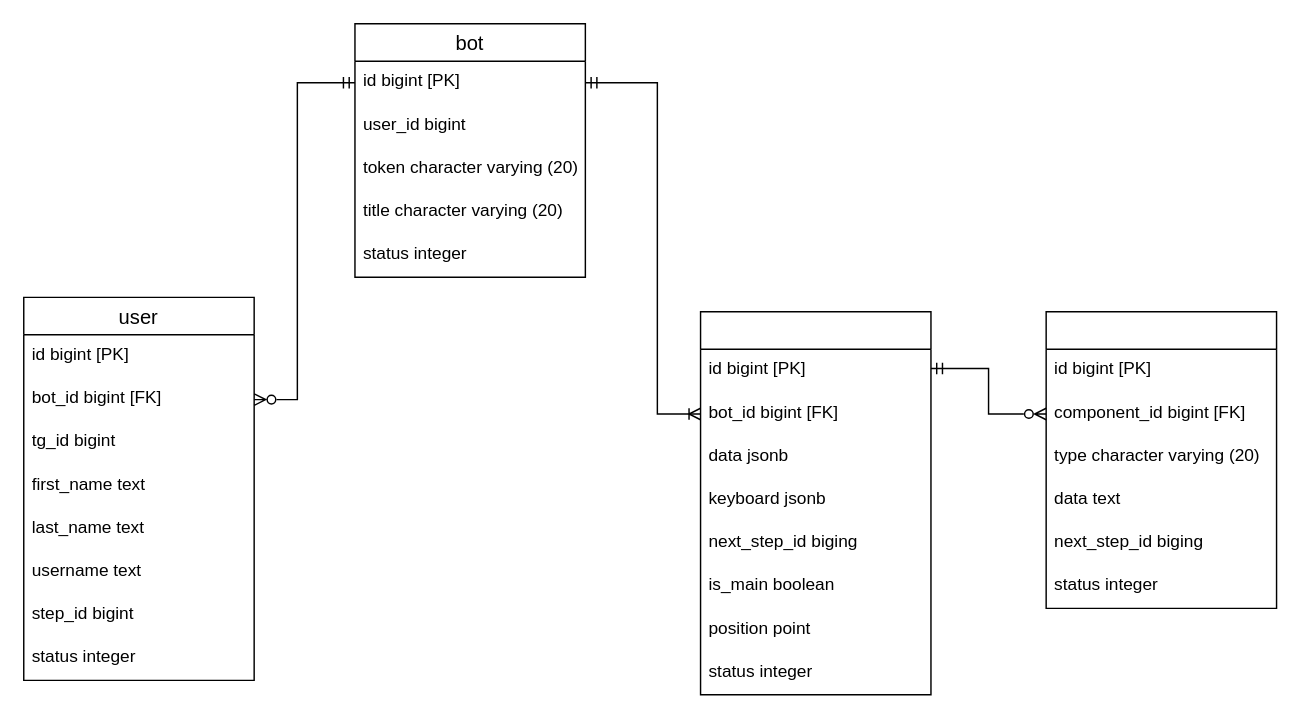
Image size: 1300x719. Some labels were removed from this diagram. The box of each missing label's shape, as (x1, y1, x2, y2) in pixels:
command: (1045, 310, 1277, 608)
component: (699, 310, 931, 695)
